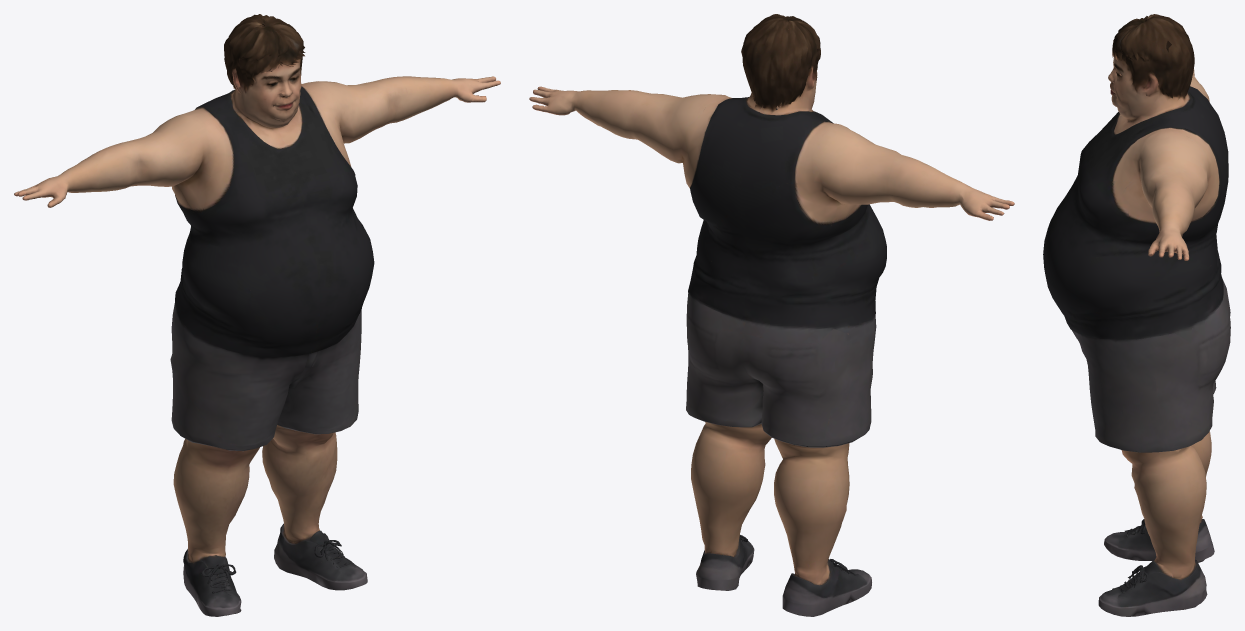
File: tolstiy.obj
3 views of the same model, side by side, from view 1: azimuth 30°, elevation 25°; view 2: azimuth 150°, elevation 25°; view 3: azimuth 270°, elevation 25° (orthographic).
Parts seen in each view (by area): view 1: mesh_0; view 2: mesh_0; view 3: mesh_0.
Boxes of the visible parts, box(x1,y1,x2,y2) form: mesh_0: box(14, 14, 500, 616); mesh_0: box(529, 14, 1014, 616); mesh_0: box(1043, 14, 1230, 616).
Bounding box in the file's own units: 832 × 950 × 288.
1 material, 1 textured.
